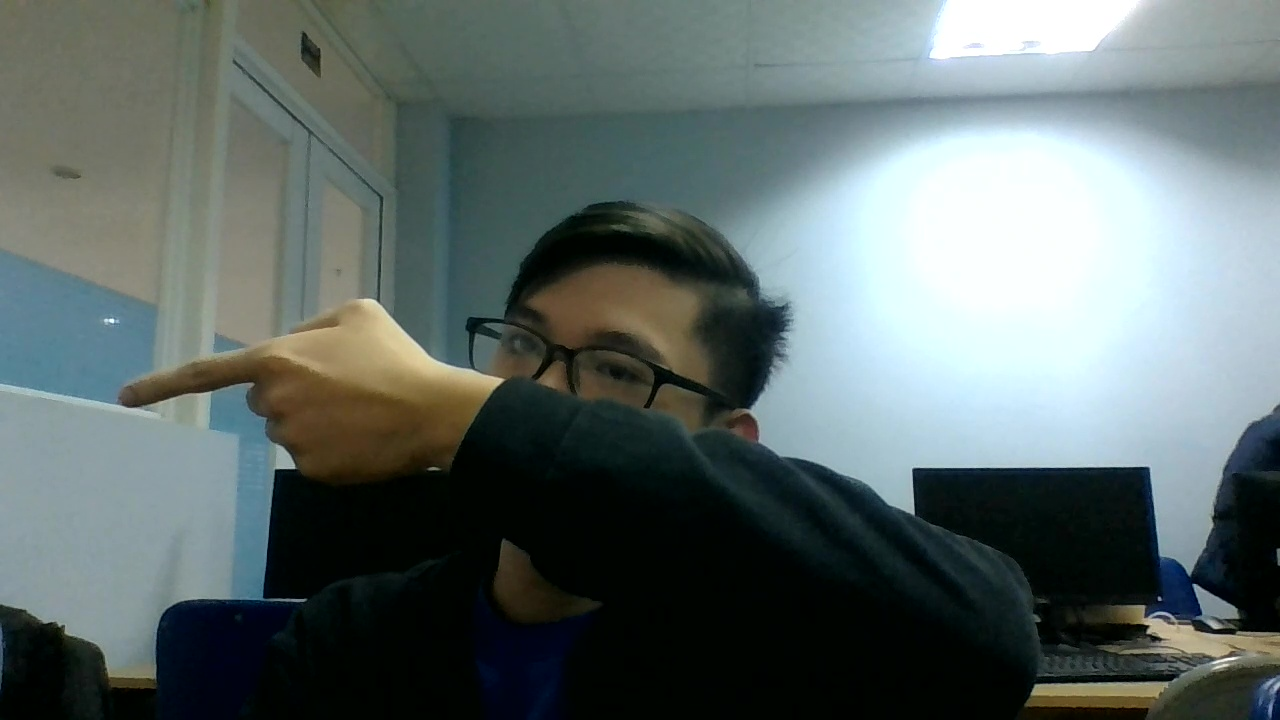right: (116, 294, 443, 495)
